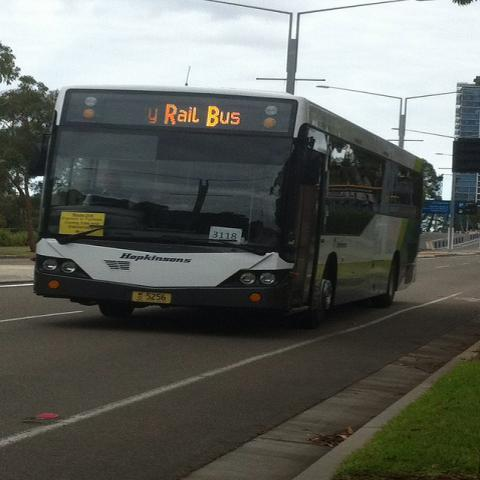bus: (32, 83, 429, 338)
